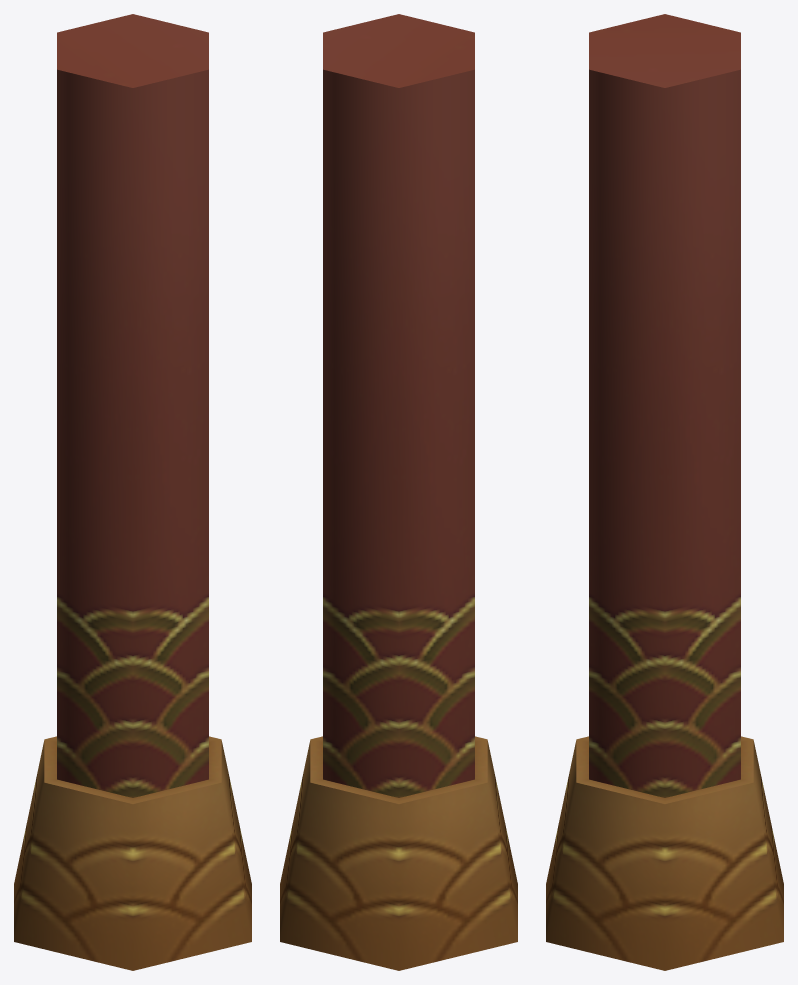
File: FB_gongdain_05.FBX
3 renders of one model, left to right at view 1: azimuth 30°, elevation 25°; view 2: azimuth 150°, elevation 25°; view 3: azimuth 270°, elevation 25°, orthographic.
Visible parts, largest first — view 1: Object03; view 2: Object03; view 3: Object03.
Boxes of the visible parts, x1,y1,x2,y2 form: Object03: [14, 14, 251, 970]; Object03: [280, 14, 517, 970]; Object03: [546, 14, 783, 970].
Size of the model in its own units: 1.65 by 5.73 by 1.43.
